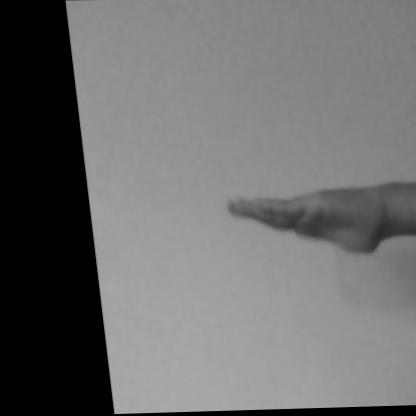palm: (204, 141, 415, 349)
